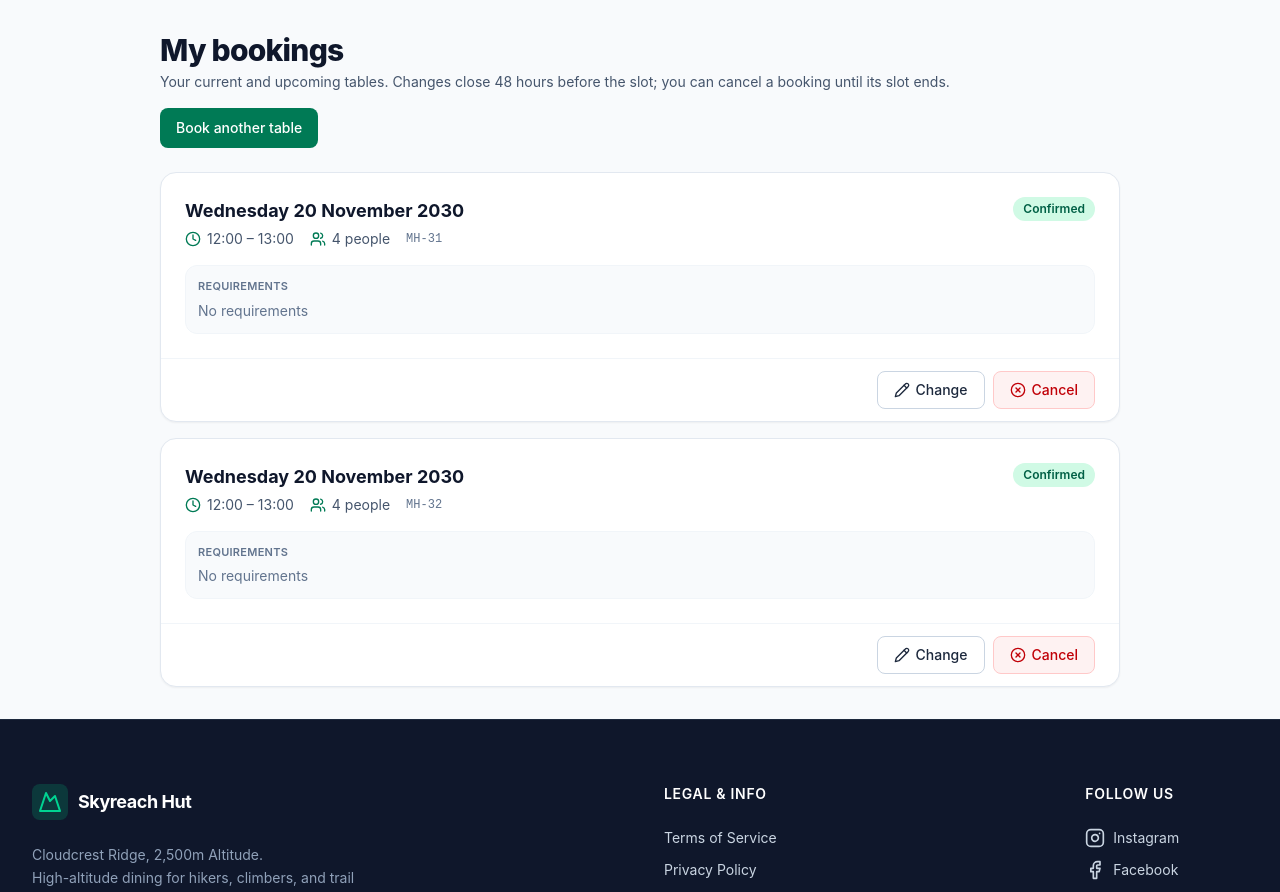
Test: MH-08 cancel a booking – hiker (My bookings) › cancels with POST /reservations/:id/cancel and greys out the booking in the list
Click the button with aria-label "Cancel booking MH-" at (1044, 390), box top-left (992, 370), bottom-right (1095, 408)
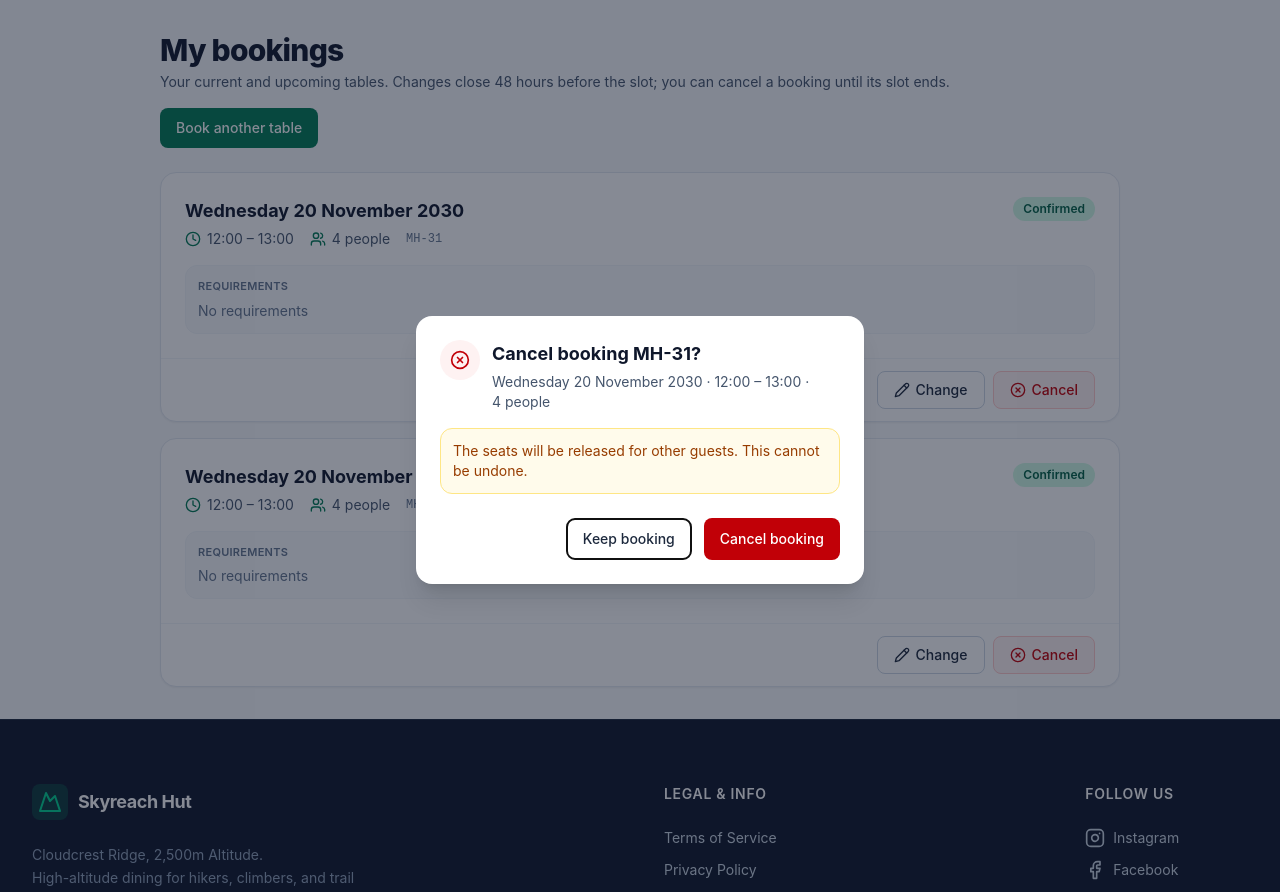
Click the button "Cancel booking" at (772, 539), box top-left (704, 518), bottom-right (840, 560)
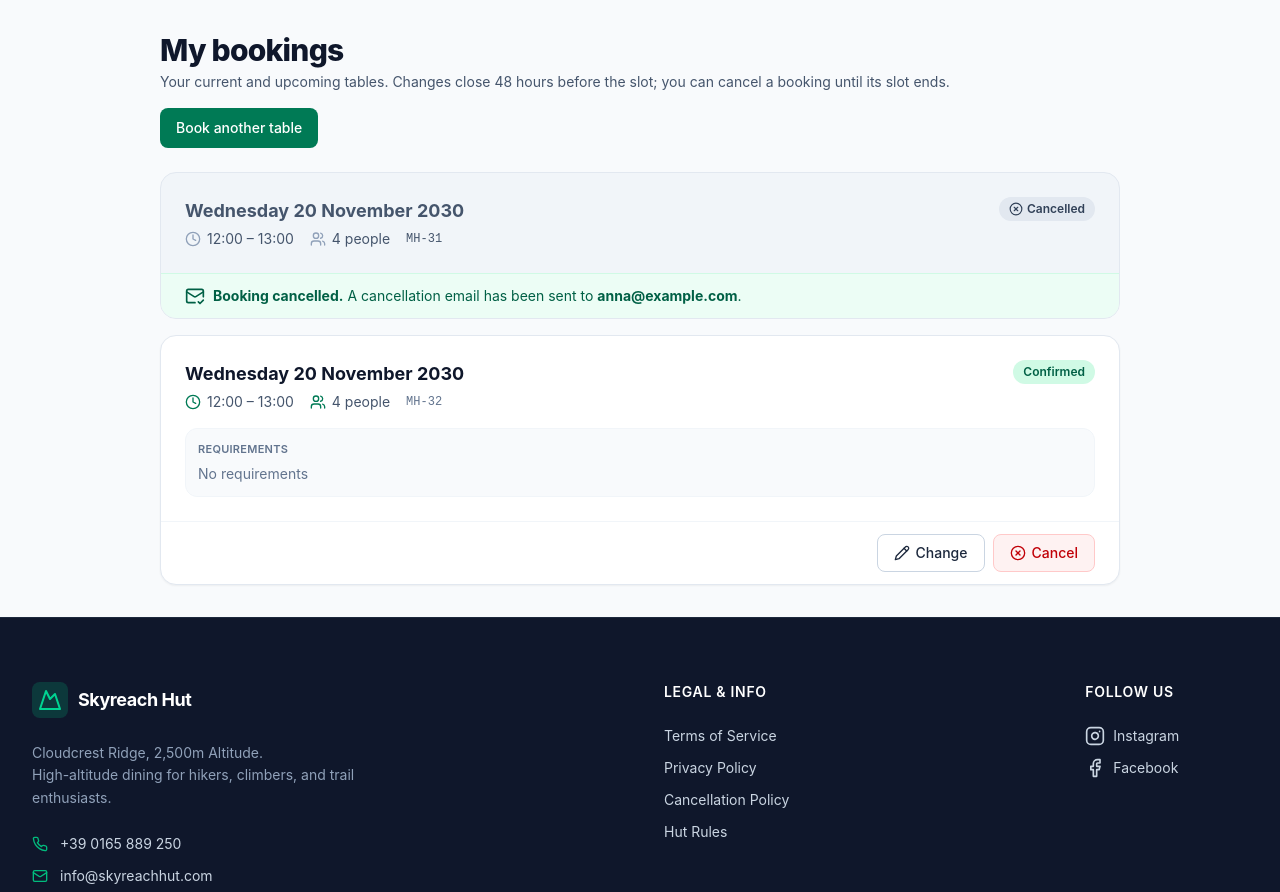
Now the list item with test id "booking-31" shows "Cancelled", box top-left (1027, 201), bottom-right (1085, 216)
Now the list item with test id "booking-31" shows "A cancellation email has been sent to anna@example.com.", box top-left (160, 172), bottom-right (1120, 319)
Now the heading "Cancel booking" is gone
